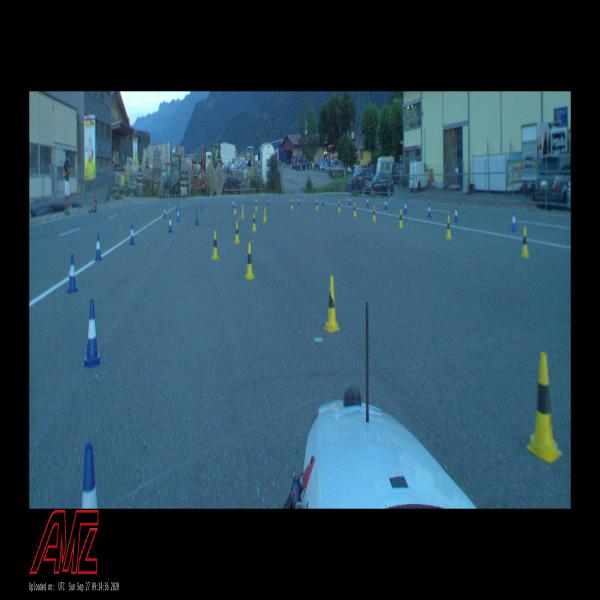blue_cone: (82, 299, 103, 366), (82, 443, 98, 507), (68, 252, 78, 292), (95, 233, 102, 261), (129, 222, 135, 246), (511, 211, 516, 231), (168, 215, 173, 232), (195, 211, 199, 225), (427, 204, 431, 217), (454, 206, 457, 222), (177, 208, 180, 222), (163, 205, 166, 218), (201, 200, 204, 211), (348, 195, 351, 206), (176, 203, 179, 214), (384, 199, 387, 209), (297, 196, 300, 206), (231, 198, 234, 208), (366, 197, 369, 206), (404, 201, 406, 213), (268, 197, 270, 205), (322, 196, 324, 204)
yellow_cone: (528, 354, 558, 464), (324, 276, 340, 332), (244, 242, 256, 278), (520, 227, 530, 257), (212, 230, 219, 258), (234, 220, 240, 244), (446, 216, 452, 238), (398, 209, 404, 228), (252, 212, 256, 231), (372, 206, 376, 221), (353, 202, 357, 217), (262, 208, 266, 222), (233, 201, 237, 214), (241, 205, 245, 218), (337, 200, 341, 211), (315, 199, 319, 210), (255, 199, 258, 210), (291, 199, 293, 210)
